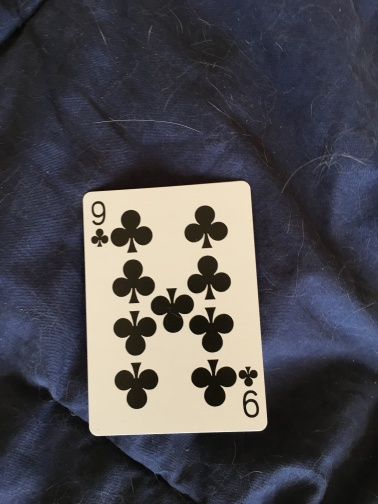nine: (81, 177, 269, 435)
